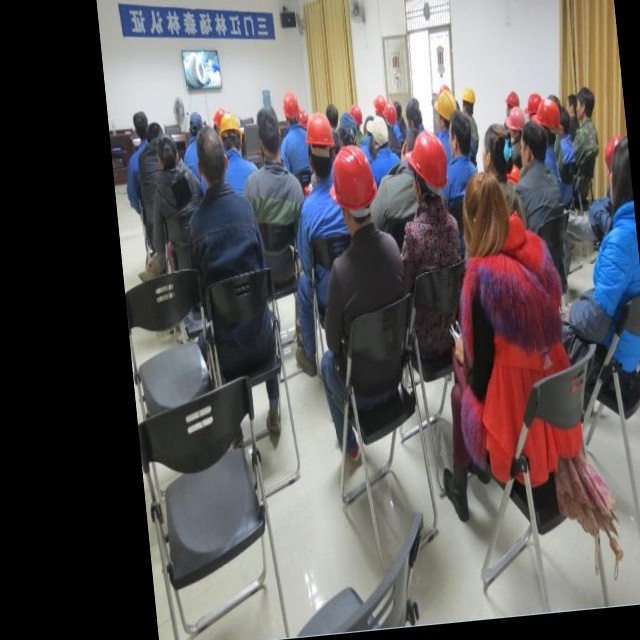Con_Casco: (325, 143, 382, 234), (400, 128, 450, 204)
